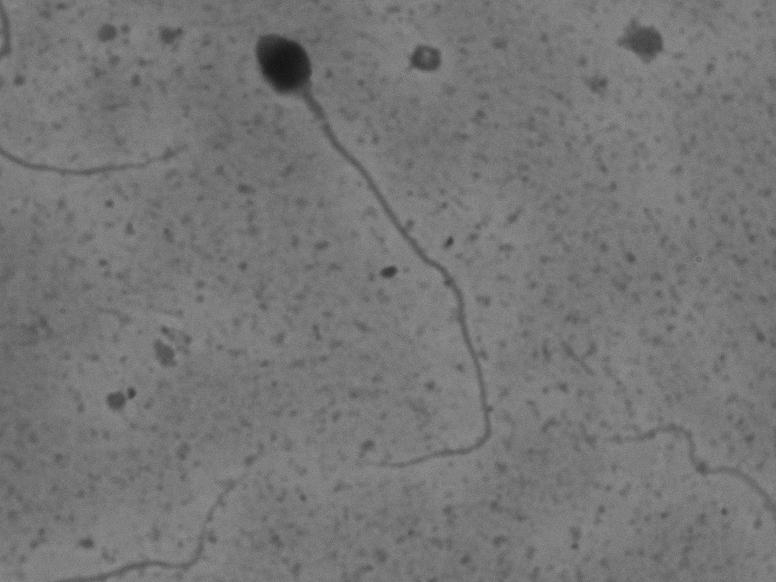Abnormal: (242, 15, 503, 481)
